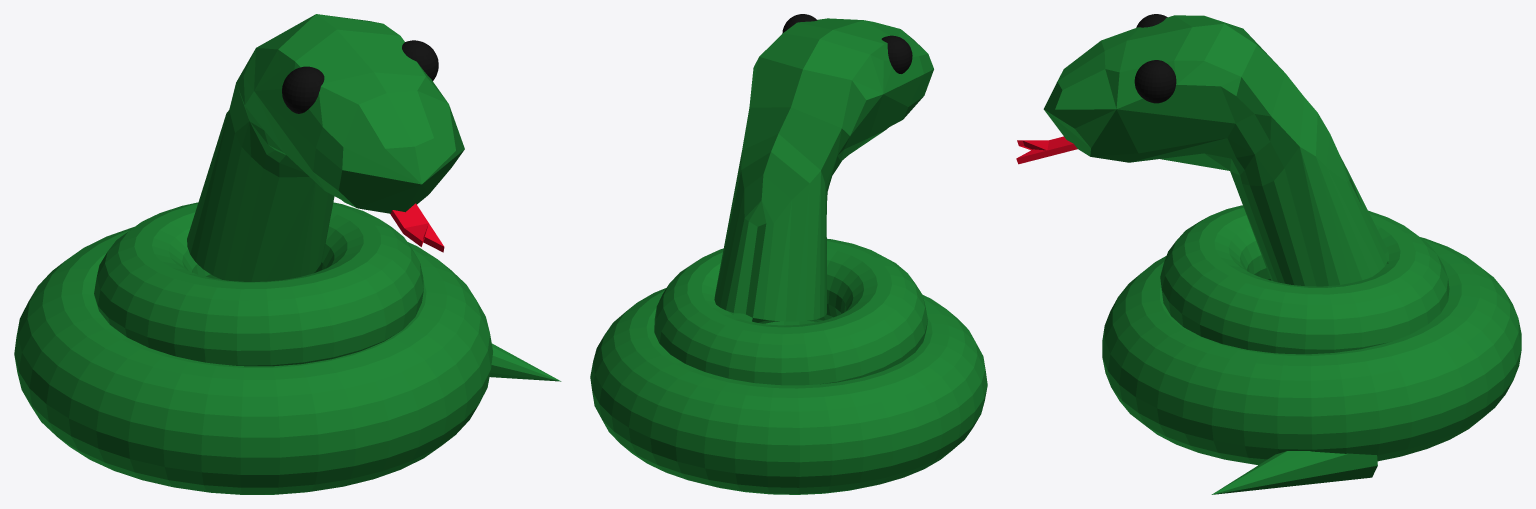
File: snake.glb
The picture shows the model from 3 angles, left to right: view 1: azimuth 30°, elevation 25°; view 2: azimuth 150°, elevation 25°; view 3: azimuth 270°, elevation 25°; orthographic projection. The views are drawn at different scales.
Parts seen in each view (by area): view 1: snek; view 2: snek; view 3: snek.
Boxes of the visible parts, x1,y1,x2,y2 form: snek: (14, 14, 561, 494); snek: (590, 14, 987, 494); snek: (1016, 14, 1521, 494).
Bounding box in the file's own units: 3.78 × 3.51 × 4.11.
